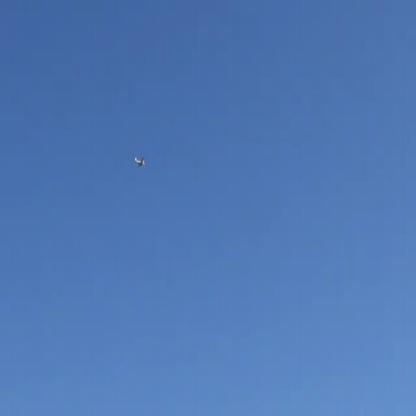CIV_Plane: (132, 154, 146, 170)
